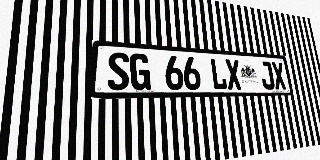6: (164, 55, 184, 90), (182, 56, 201, 90)
G: (130, 53, 151, 90)
J: (259, 61, 275, 90)
L: (209, 58, 228, 90)
S: (108, 52, 130, 90)
X: (224, 59, 242, 90), (271, 62, 287, 90)
